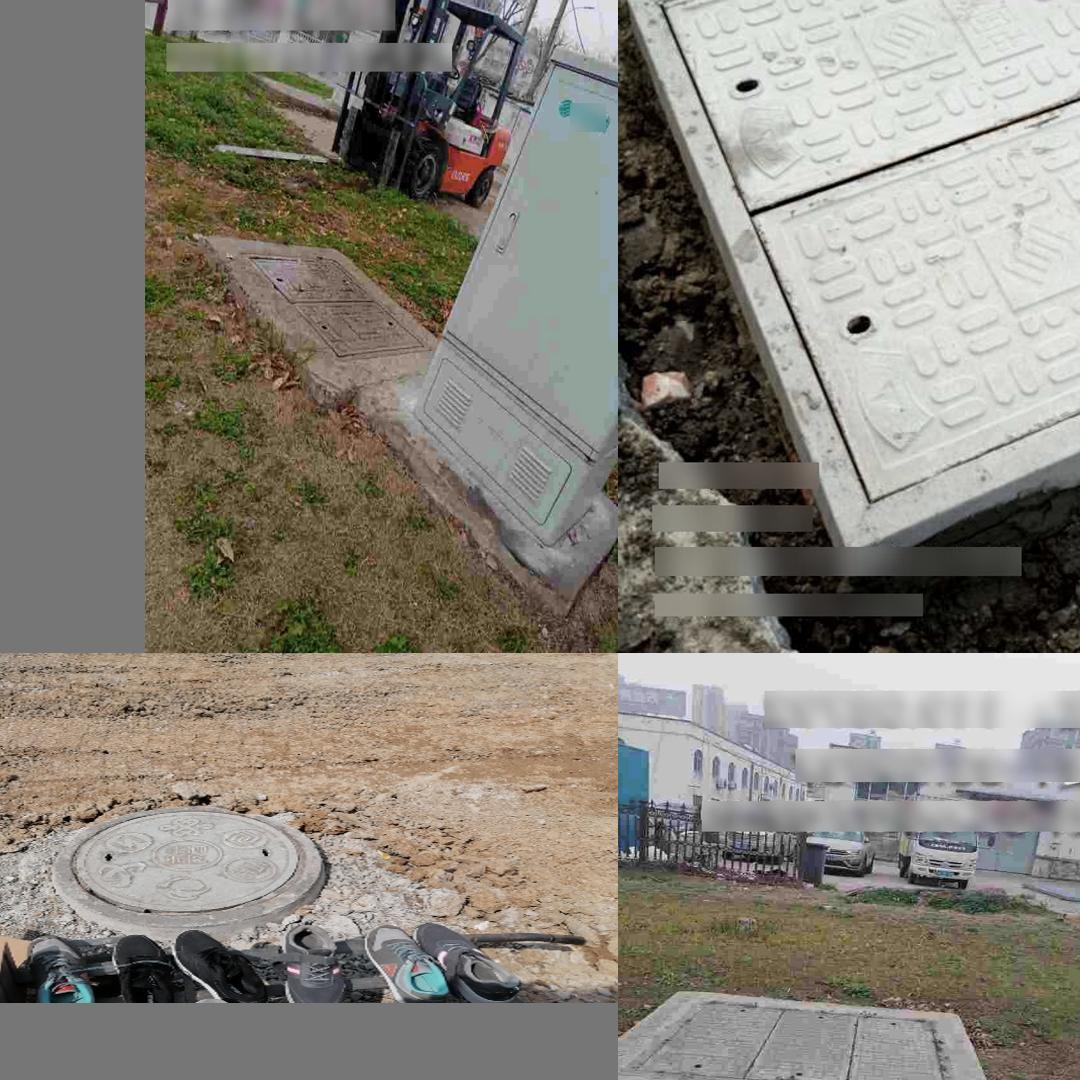good: (640, 0, 1080, 546), (53, 804, 326, 925), (618, 998, 959, 1080), (245, 253, 432, 361)
